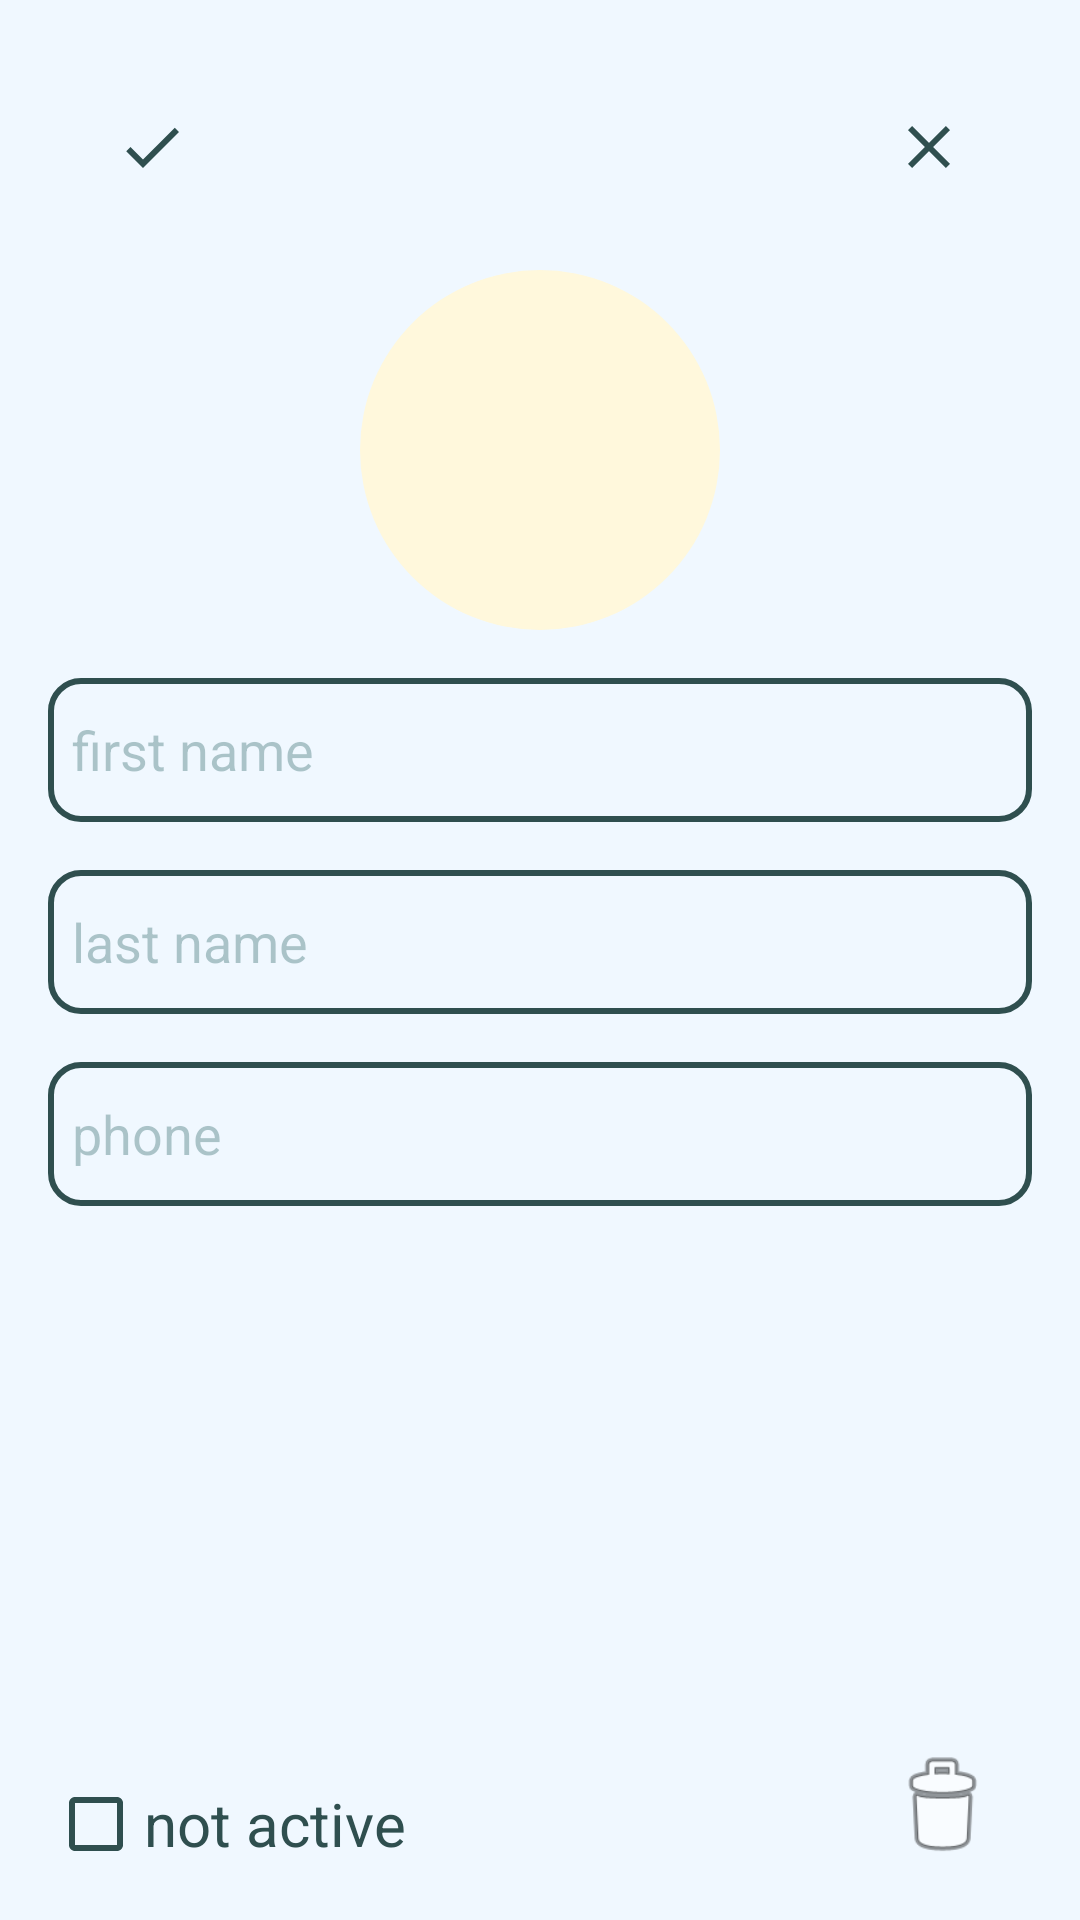

Where to tap for icons on this 1080*1920 app screen, as point (x, y):
cancellation: point (929, 147)
to accept: point (152, 148)
